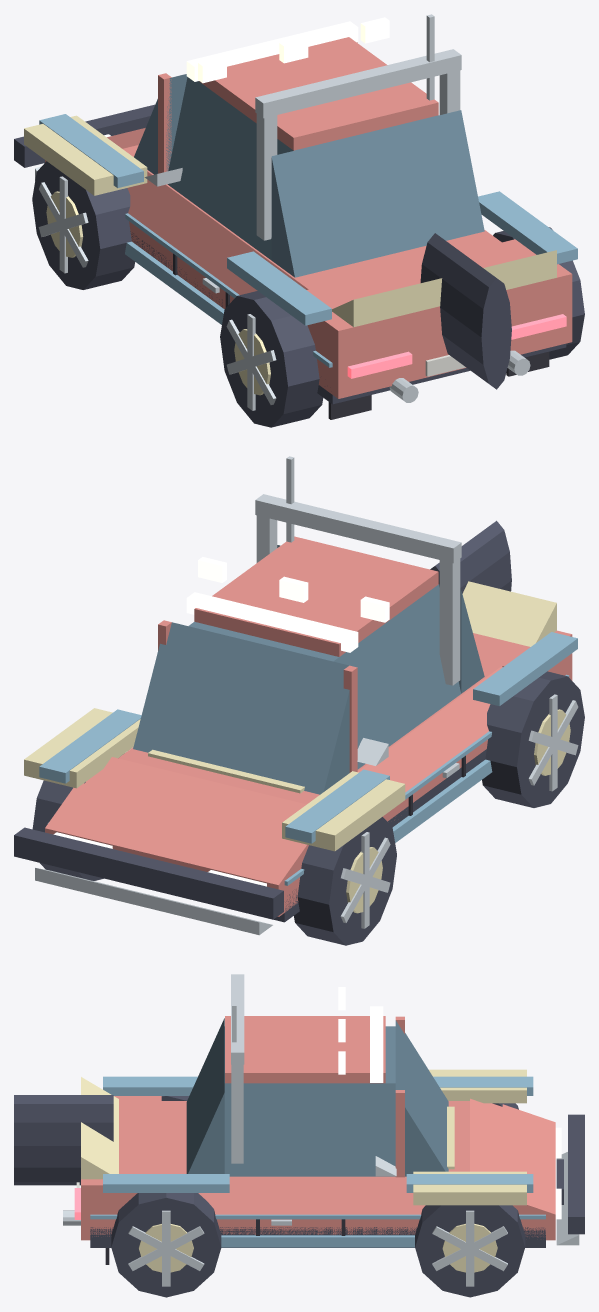
The model's file is dust_comet.glb.
3 renders of one model, top to bottom at view 1: azimuth 30°, elevation 25°; view 2: azimuth 150°, elevation 25°; view 3: azimuth 270°, elevation 25°, orthographic. The views are drawn at different scales.
Visible parts, largest first — view 1: RearWindow.159, Roof.259, Tail.059, CabinSideL.056, SpareTyre.018, Wheel_RL.219, Wheel_FL.219, ShoulderL.056, Body.259, RollBar.052, Ducktail.044, Fender-1.052 (+30 smaller); view 2: Windshield.159, Nose.056, Roof.259, CabinSideL.056, BashBar.052, Wheel_RL.219, Wheel_FL.219, ShoulderL.056, RollBar.052, Ducktail.044, Fender-1.052, Bumper.255 (+29 smaller); view 3: CabinSideR.056, Roof.259, ShoulderR.056, SpareTyre.018, Wheel_RR.219, Nose.056, Wheel_FR.219, Windshield.159, Tail.059, RearWindow.159, Body.259, BodyUpper.056 (+26 smaller).
Part boxes in pixels (<box>): RearWindow.159: <box>271,110,484,277</box>; Roof.259: <box>199,37,438,150</box>; Tail.059: <box>307,239,572,366</box>; CabinSideL.056: <box>167,77,293,260</box>; SpareTyre.018: <box>420,233,511,389</box>; Wheel_RL.219: <box>220,291,323,427</box>; Wheel_FL.219: <box>32,161,134,289</box>; ShoulderL.056: <box>127,171,308,294</box>; Body.259: <box>45,160,572,398</box>; RollBar.052: <box>255,49,461,118</box>; Ducktail.044: <box>332,250,556,327</box>; Fender-1.052: <box>24,115,147,195</box>; Windshield.159: <box>133,622,349,794</box>; Nose.056: <box>45,757,308,885</box>; Roof.259: <box>194,536,438,656</box>; CabinSideL.056: <box>333,584,461,769</box>; BashBar.052: <box>14,827,283,919</box>; Wheel_RL.219: <box>482,671,584,807</box>; Wheel_FL.219: <box>294,817,396,945</box>; ShoulderL.056: <box>357,666,502,792</box>; RollBar.052: <box>255,494,461,563</box>; Ducktail.044: <box>462,581,556,646</box>; Fender-1.052: <box>282,771,405,851</box>; Bumper.255: <box>35,868,272,935</box>; CabinSideR.056: <box>224,1083,395,1176</box>; Roof.259: <box>225,1016,385,1083</box>; ShoulderR.056: <box>198,1177,425,1214</box>; SpareTyre.018: <box>14,1095,113,1185</box>; Wheel_RR.219: <box>111,1193,221,1297</box>; Nose.056: <box>470,1098,555,1214</box>; Wheel_FR.219: <box>415,1205,525,1297</box>; Windshield.159: <box>395,1020,448,1176</box>; Tail.059: <box>81,1096,161,1214</box>; RearWindow.159: <box>186,1018,224,1173</box>; Body.259: <box>81,1214,555,1240</box>; BodyUpper.056: <box>161,1101,469,1177</box>.
Size of the model in its own units: 3.06 by 3.04 by 6.02.
